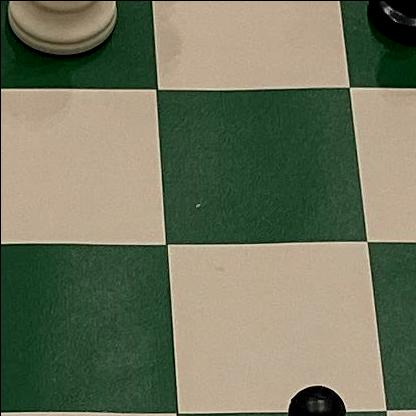black-pawn: (235, 357, 371, 416)
white-rook: (0, 0, 131, 66)
